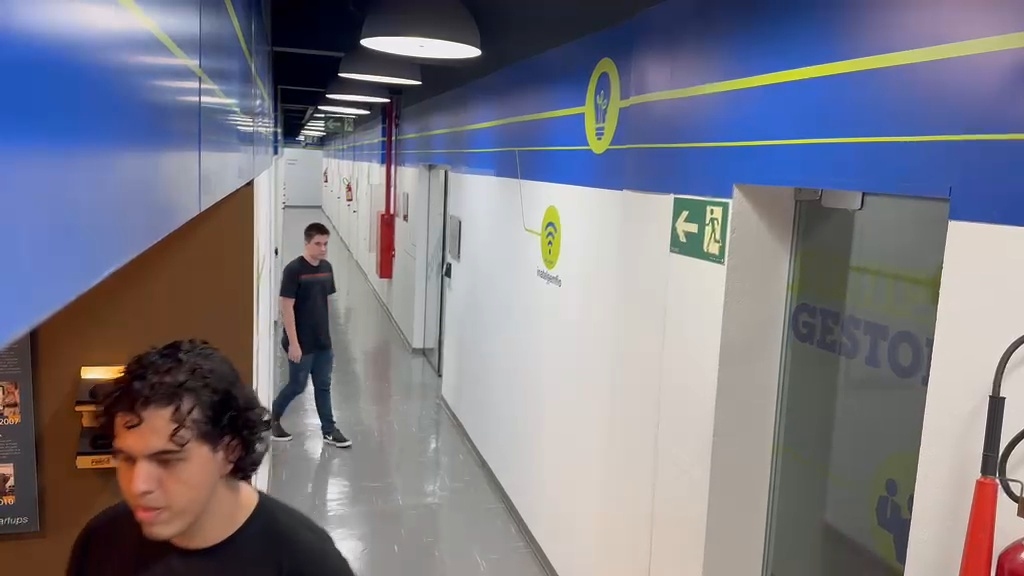person: (64, 339, 356, 571), (271, 220, 354, 450)
